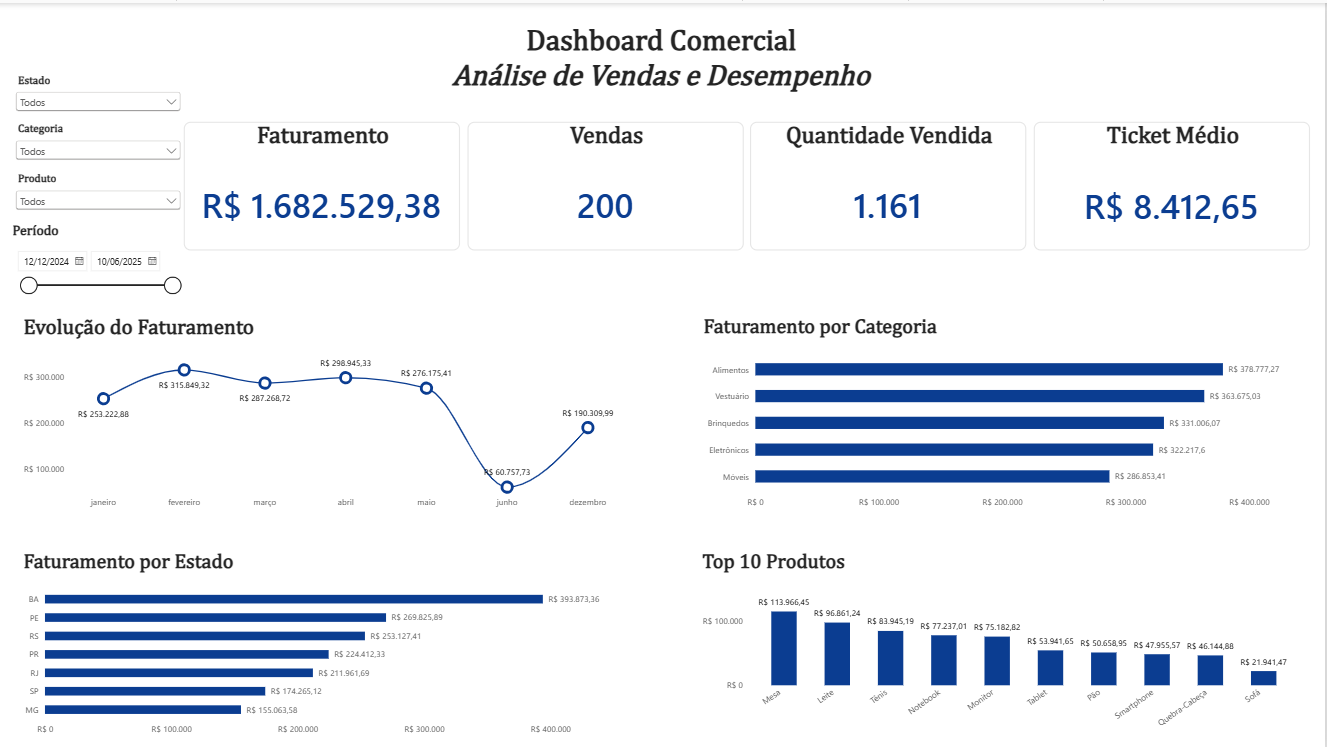

What the dashboard file says about the page in this screenshot:
{"tool":"powerbi","page":{"name":"Dashboard Comercial","canvas":[1920,1080],"ordinal":0},"visuals":[{"type":"cardVisual","title":"Faturamento","fields":{"Data":["Tabela1_1.Faturamento Total"]},"box":[277.2,179.5,388.1,188.2],"z":0},{"type":"cardVisual","title":"Quantidade Vendida","fields":{"Data":["Tabela1_1.Quantidade Vendida"]},"box":[1100.1,179.9,388.1,188.2],"z":1000},{"type":"cardVisual","title":"Vendas","fields":{"Data":["Tabela1_1.Número de Vendas"]},"box":[683.5,179.9,388.1,188.2],"z":2000},{"type":"cardVisual","title":"Ticket Médio","fields":{"Data":["Tabela1_1.Ticket Médio"]},"box":[1508.6,179.5,388.1,188.2],"z":3000},{"type":"lineChart","title":"Evolução do Faturamento","fields":{"Category":["Tabela1_1.Data da Venda.Variation.Hierarquia de datas.Ano","Tabela1_1.Data da Venda.Variation.Hierarquia de datas.Mês"],"Y":["Tabela1_1.Faturamento Total"]},"box":[25.5,406.2,917.3,337.2],"z":4000},{"type":"clusteredBarChart","title":"Faturamento por Categoria","fields":{"Category":["Tabela1_1.Categoria"],"Y":["Tabela1_1.Faturamento Total"]},"box":[960.7,406.2,935.3,337.2],"z":5000},{"type":"clusteredBarChart","title":"Faturamento por Estado","fields":{"Category":["Tabela1_1.Estado"],"Y":["Tabela1_1.Faturamento Total"]},"box":[24.8,755.7,917.7,323.9],"z":6000},{"type":"columnChart","title":"Top 10 Produtos","fields":{"Category":["Tabela1_1.Produto"],"Y":["Tabela1_1.Faturamento Total"]},"box":[960.7,755.4,935.3,323.7],"z":7000},{"type":"slicer","fields":{"Values":["Tabela1_1.Estado"]},"box":[4.5,65.9,265.3,68.9],"z":8000},{"type":"slicer","fields":{"Values":["Tabela1_1.Categoria"]},"box":[4.5,134.9,265.3,73.4],"z":9000},{"type":"slicer","fields":{"Values":["Tabela1_1.Produto"]},"box":[4.5,208.3,265.3,73.4],"z":10000},{"type":"slicer","title":"Período","fields":{"Values":["Tabela1_1.Data da Venda"]},"box":[4.5,281.8,265.3,124.4],"z":11000},{"type":"textbox","box":[277.3,37.5,1642.7,112.4],"z":12000}]}

Visuals, with their boxes in screenshot pixels (x1, y1, x2, y2), scaled from the page's 1920x1080 canvas onto the 1327x747 screenshot:
"Faturamento" cardVisual: 192 124 460 254
"Quantidade Vendida" cardVisual: 760 124 1029 255
"Vendas" cardVisual: 472 124 741 255
"Ticket Médio" cardVisual: 1043 124 1311 254
"Evolução do Faturamento" lineChart: 18 281 652 514
"Faturamento por Categoria" clusteredBarChart: 664 281 1310 514
"Faturamento por Estado" clusteredBarChart: 17 523 651 746
"Top 10 Produtos" columnChart: 664 522 1310 746
slicer - Tabela1_1.Estado: 3 46 186 93
slicer - Tabela1_1.Categoria: 3 93 186 144
slicer - Tabela1_1.Produto: 3 144 186 195
"Período" slicer: 3 195 186 281
textbox: 192 26 1326 104
